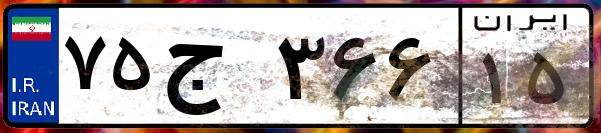1: (475, 38, 525, 113)
3: (270, 28, 330, 110)
5: (525, 38, 570, 115), (110, 28, 158, 98)
6: (385, 28, 445, 110), (330, 28, 385, 110)
7: (57, 26, 110, 100)
ج: (158, 20, 270, 120)
